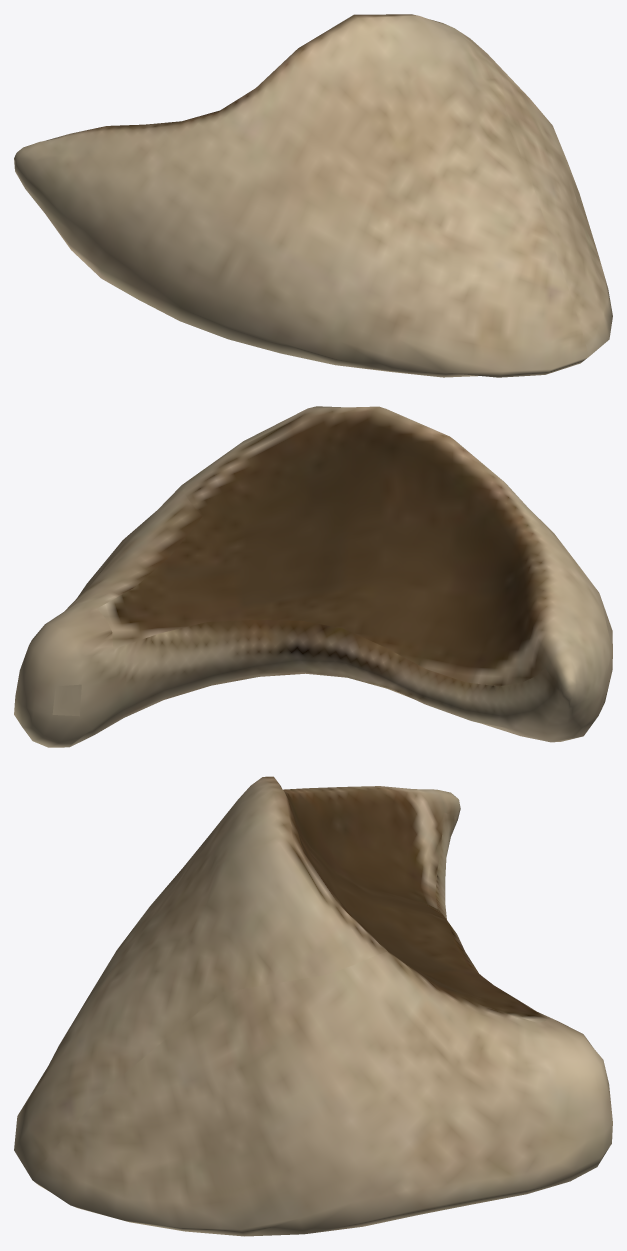
Rendered from Coffin.glb.
The picture shows the model from 3 angles, top to bottom: view 1: azimuth 30°, elevation 25°; view 2: azimuth 150°, elevation 25°; view 3: azimuth 270°, elevation 25°; orthographic projection. The views are drawn at different scales.
Visible parts, largest first — view 1: L_Bck_Coffin; view 2: L_Bck_Coffin; view 3: L_Bck_Coffin.
Boxes of the visible parts, bbox=[...] form: L_Bck_Coffin: bbox=[14, 14, 612, 377]; L_Bck_Coffin: bbox=[14, 406, 612, 747]; L_Bck_Coffin: bbox=[14, 776, 612, 1236].
Bounding box in the file's own units: 0.0677 × 0.0386 × 0.0624.
1 material, 1 textured.
